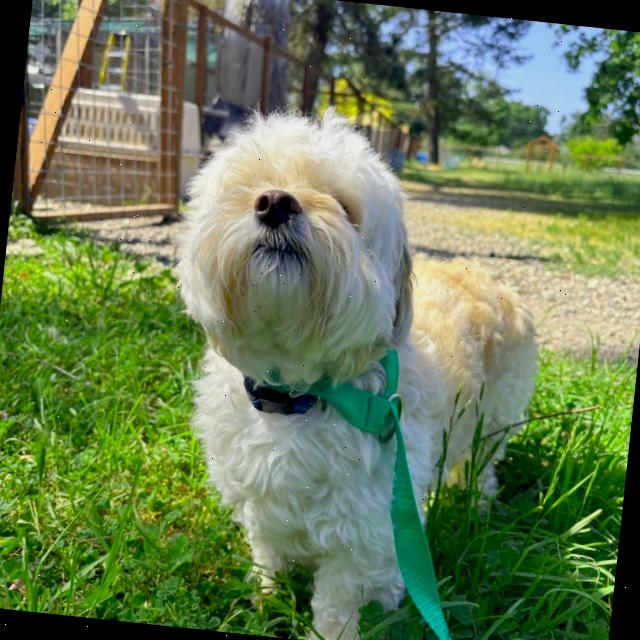shih_tzu_dog: (138, 88, 442, 444)
